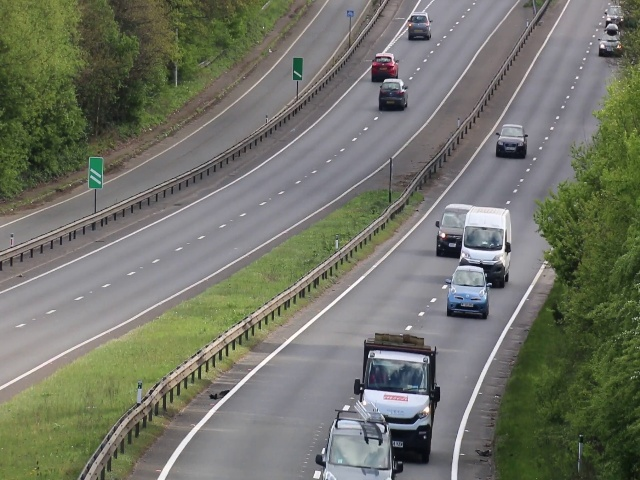car: (363, 345, 431, 446), (319, 433, 393, 480), (462, 219, 502, 279), (447, 264, 487, 319), (495, 121, 528, 158), (437, 200, 458, 257), (377, 78, 409, 111), (367, 50, 399, 82), (406, 14, 432, 41), (601, 33, 621, 58)
